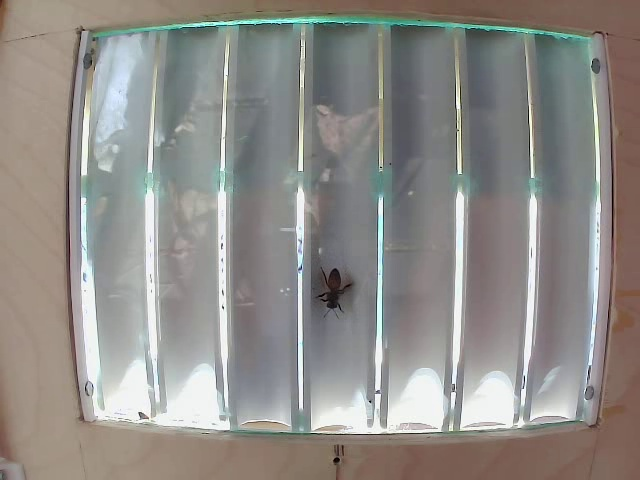bee: (313, 255, 353, 302)
